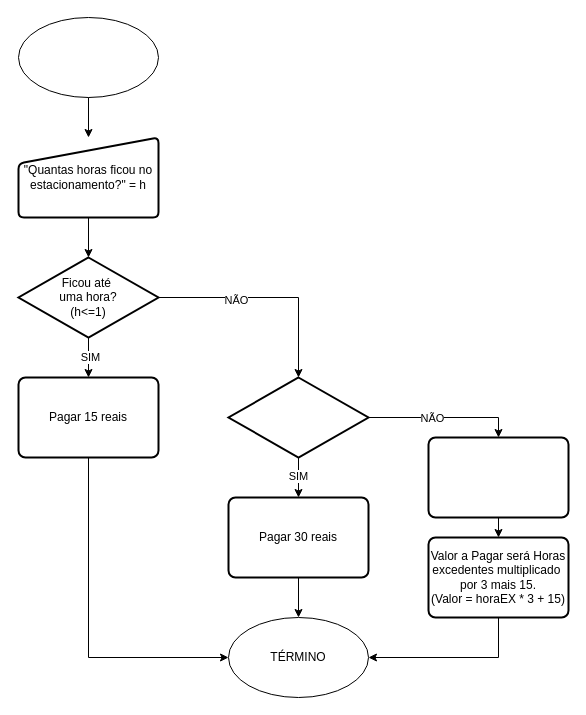
The diagram is 586 pixels wide and 715 high, and some of its shapes have lost their labels. Each missing label, with the box of its shape:
Ficou o dia todo ? (h>=24): (227, 376, 369, 458)
Horas excedentes serão a quantidade de horas menos um. (horaEX = h - 1): (427, 436, 569, 518)
INÍCIO: (18, 16, 158, 98)
